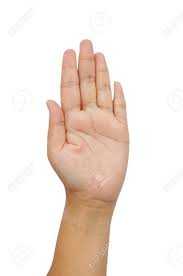palm: (46, 39, 130, 203)
